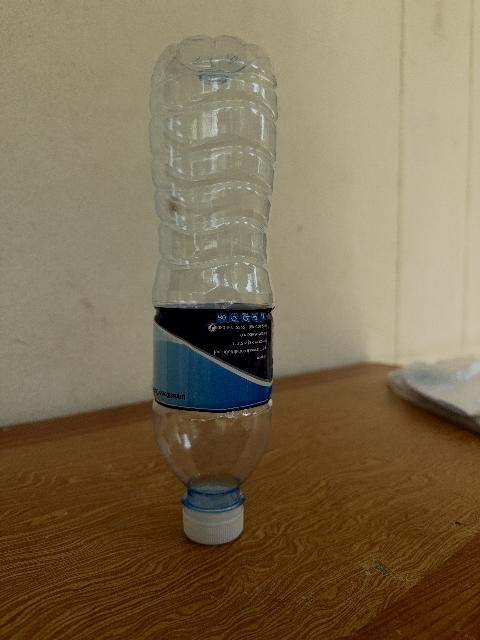bottle: (149, 37, 275, 544)
